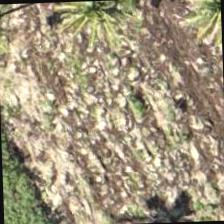Kelapa_Sawit: (45, 0, 138, 52)
